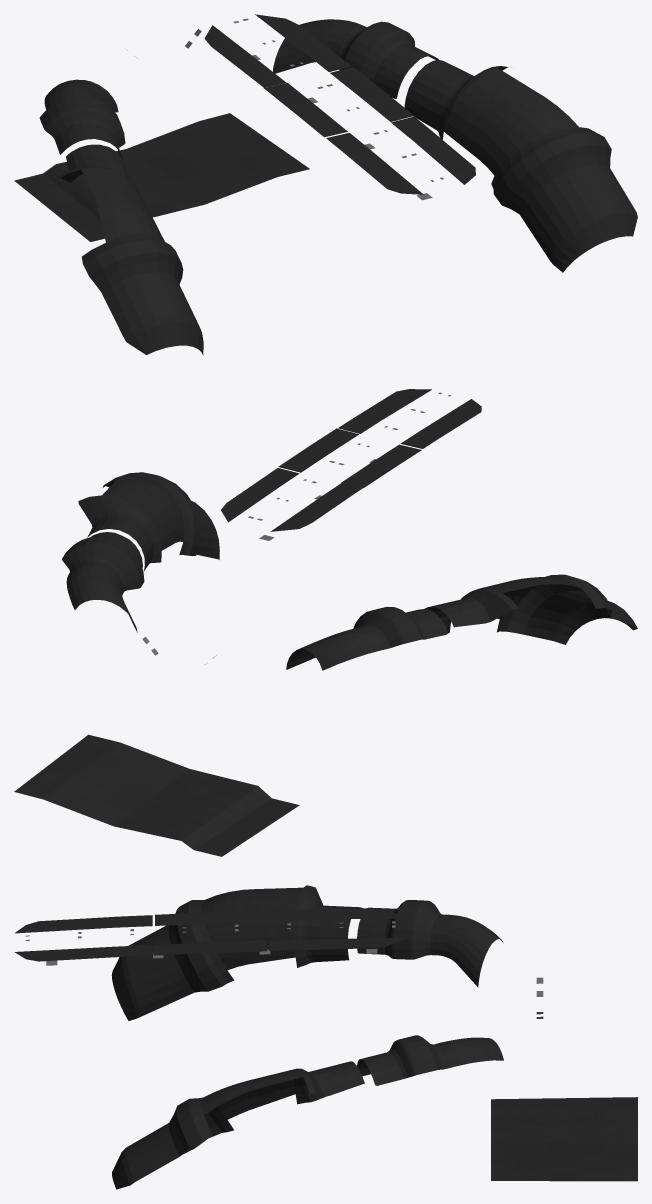
File: engine_full_tourbillon.glb
3 renders of one model, top to bottom at view 1: azimuth 30°, elevation 25°; view 2: azimuth 150°, elevation 25°; view 3: azimuth 270°, elevation 25°, orthographic. The views are drawn at different scales.
Visible parts, largest first — view 1: world; view 2: world; view 3: world.
Part boxes in pixels (left/top/right/bottom): world: left=14, top=14, right=637, bottom=355; world: left=14, top=389, right=637, bottom=856; world: left=14, top=885, right=637, bottom=1189.
Size of the model in its own units: 0.0106 by 0.00457 by 0.0118.
Materials: 1 (1 with a texture image).
